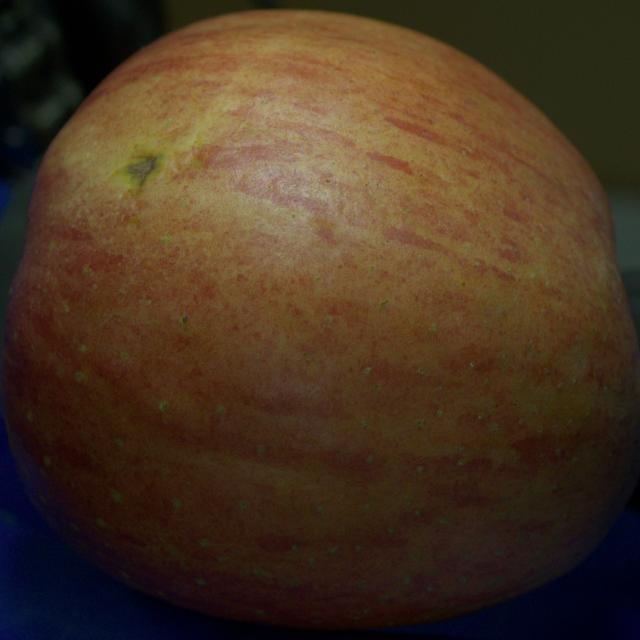apple: (2, 10, 639, 628)
pest: (126, 156, 159, 185)
